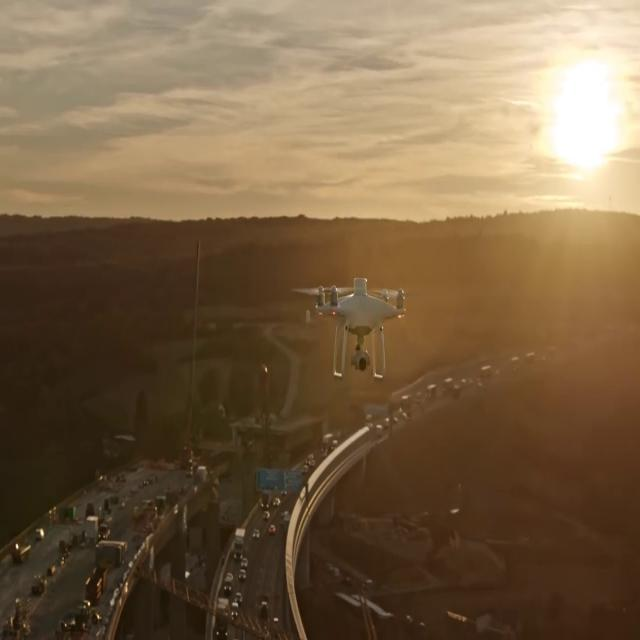drone: (290, 271, 414, 382)
